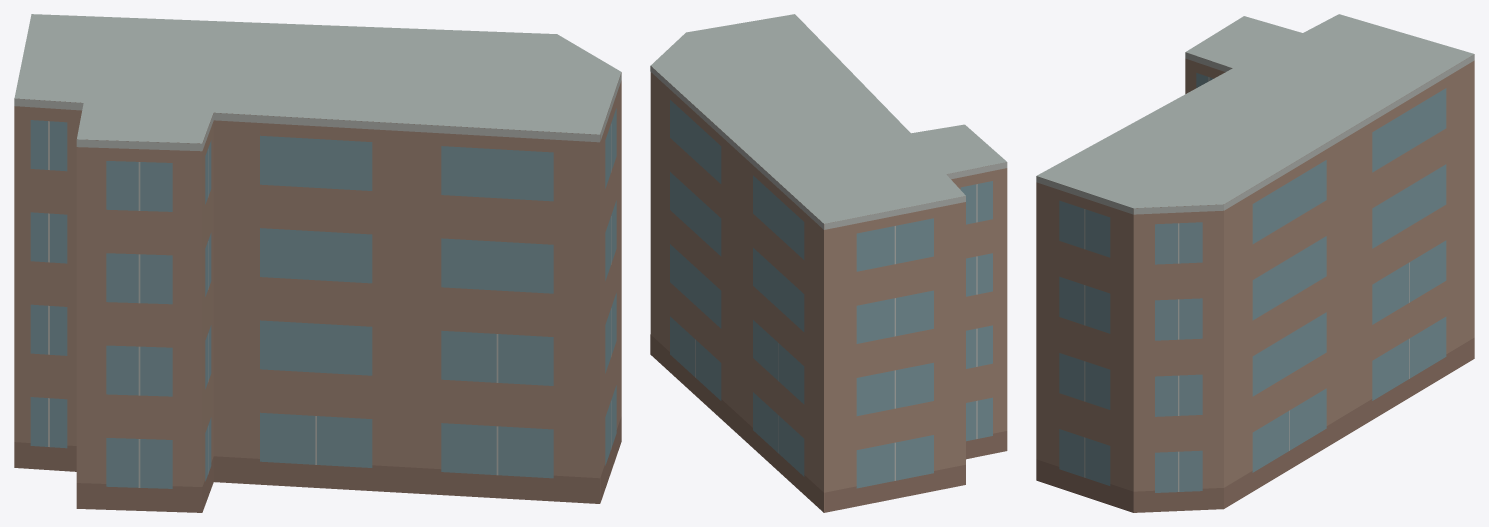
File: survey-upis-33034904.glb
3 views of the same model, side by side, from view 1: azimuth 30°, elevation 25°; view 2: azimuth 150°, elevation 25°; view 3: azimuth 270°, elevation 25° (orthographic). The views are drawn at different scales.
Visible parts, largest first — view 1: survey-upis-33034904.tmp; view 2: survey-upis-33034904.tmp; view 3: survey-upis-33034904.tmp.
Part boxes in pixels (x1,y1,x2,y2): survey-upis-33034904.tmp: (14,14,621,512); survey-upis-33034904.tmp: (650,14,1007,512); survey-upis-33034904.tmp: (1036,14,1474,512).
Bounding box in the file's own units: 16.01 × 11.7 × 15.27.
